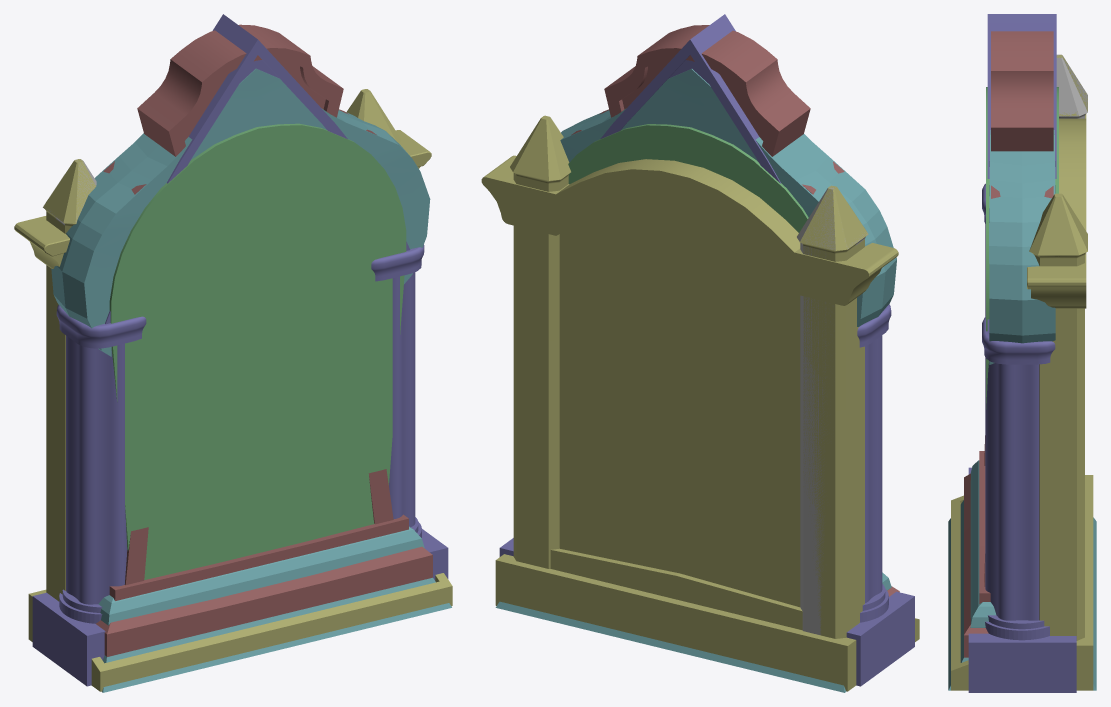
The model's file is MOD_TombStones(5).fbx.
The picture shows the model from 3 angles, left to right: view 1: azimuth 30°, elevation 25°; view 2: azimuth 150°, elevation 25°; view 3: azimuth 270°, elevation 25°; orthographic projection.
Visible parts, largest first — view 1: TombStone_5, TombStone_2, TombStone_1, TombStone_3, TombStone_4; view 2: TombStone_4, TombStone_1, TombStone_2, TombStone_3, TombStone_5; view 3: TombStone_4, TombStone_2, TombStone_1, TombStone_3, TombStone_5.
Boxes of the visible parts, left/top/right/bottom form: TombStone_5: left=109, top=123, right=406, bottom=579; TombStone_2: left=32, top=14, right=448, bottom=686; TombStone_1: left=51, top=68, right=451, bottom=692; TombStone_3: left=96, top=24, right=432, bottom=656; TombStone_4: left=14, top=89, right=452, bottom=691; TombStone_4: left=481, top=115, right=919, bottom=691; TombStone_1: left=495, top=69, right=896, bottom=692; TombStone_2: left=499, top=14, right=914, bottom=686; TombStone_3: left=571, top=25, right=899, bottom=596; TombStone_5: left=568, top=124, right=808, bottom=232; TombStone_4: left=951, top=54, right=1093, bottom=690; TombStone_2: left=968, top=14, right=1076, bottom=692; TombStone_1: left=948, top=130, right=1096, bottom=690; TombStone_3: left=964, top=31, right=1053, bottom=657; TombStone_5: left=986, top=87, right=1058, bottom=409.
Bounding box in the file's own units: 3.55 × 5.21 × 1.18.
